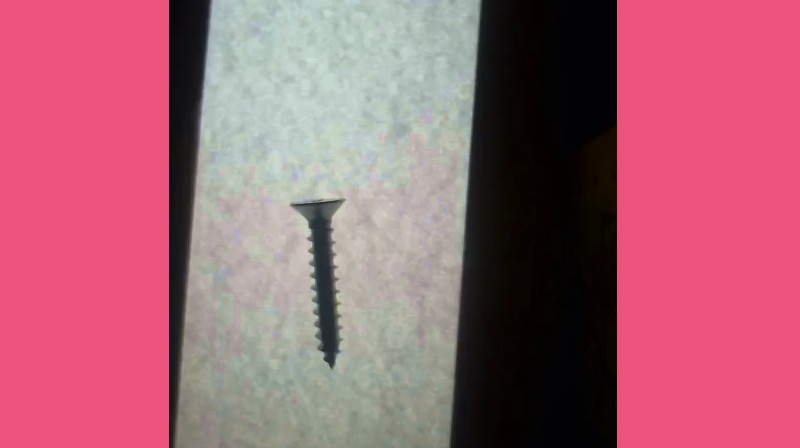S001: (290, 193, 352, 371)
